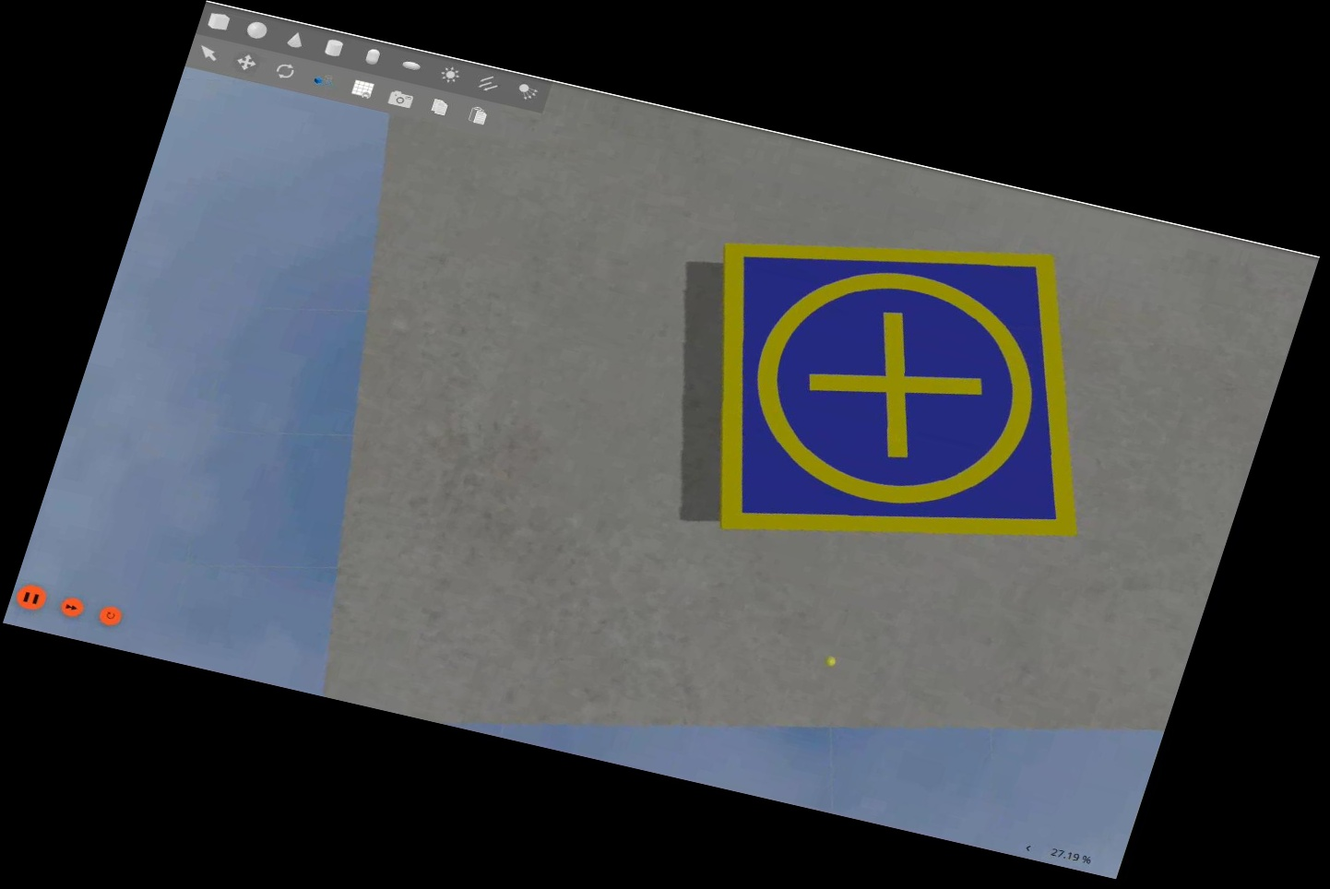small_base: (629, 184, 1168, 610)
